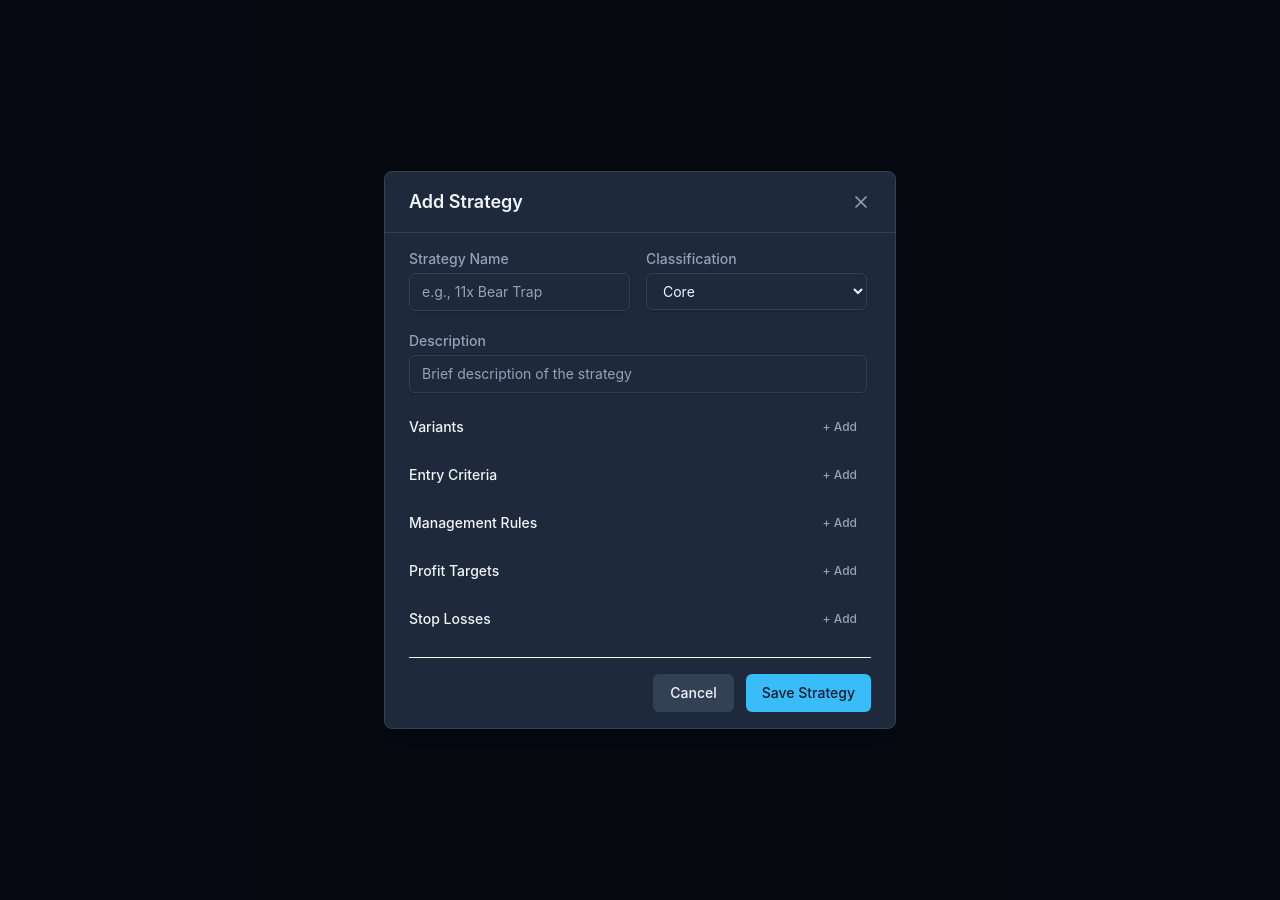
StrategyEditor › shows validation errors when saving without entry criteria and management rules
The width and height of the screenshot is (1280, 900).
Fill in name so we only test the sub-list validation
In the field with placeholder "e.g., 11x Bear Trap": (520, 292) [409, 273, 630, 311], type "My Strategy"
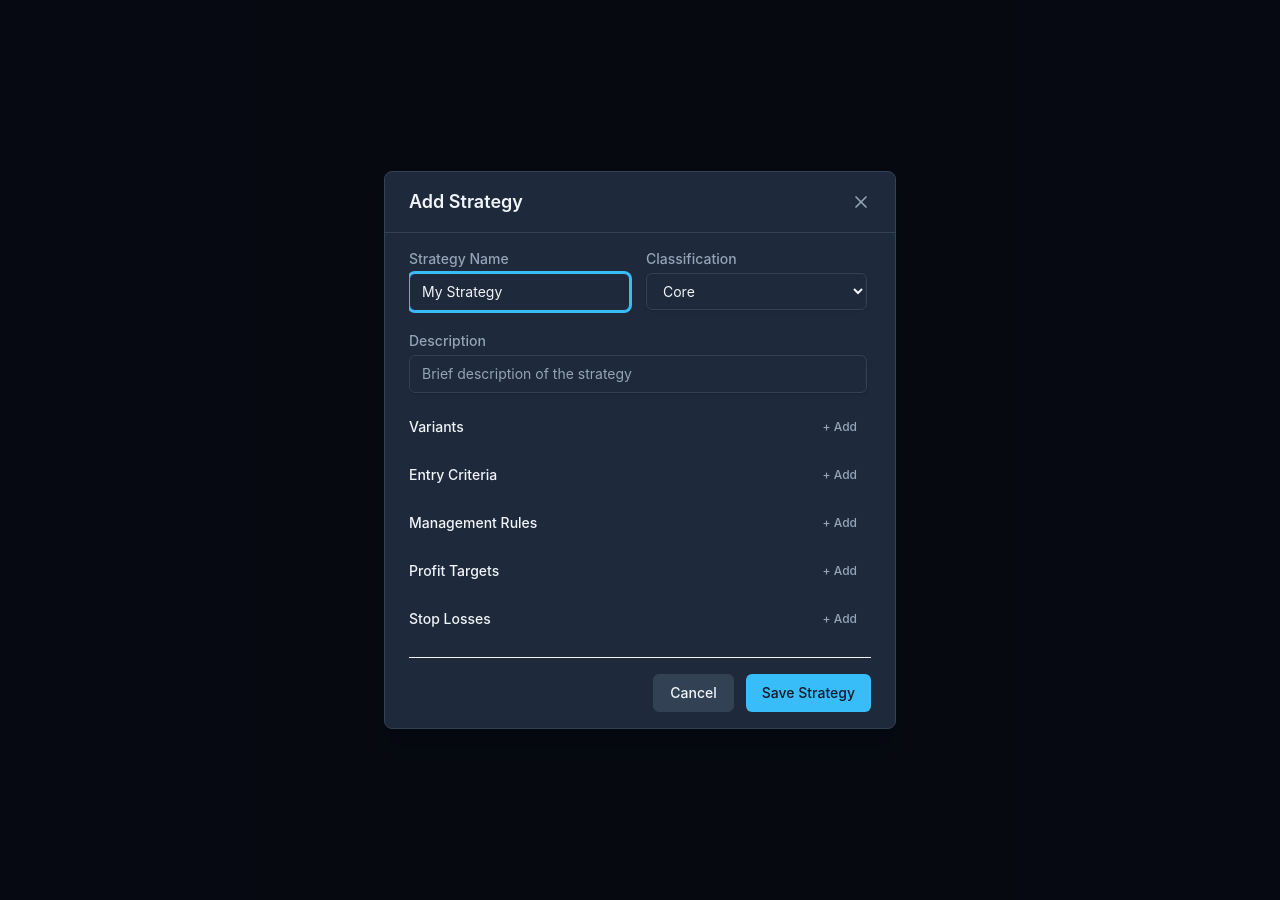
Click the button "Save Strategy": (808, 693) [746, 674, 871, 712]
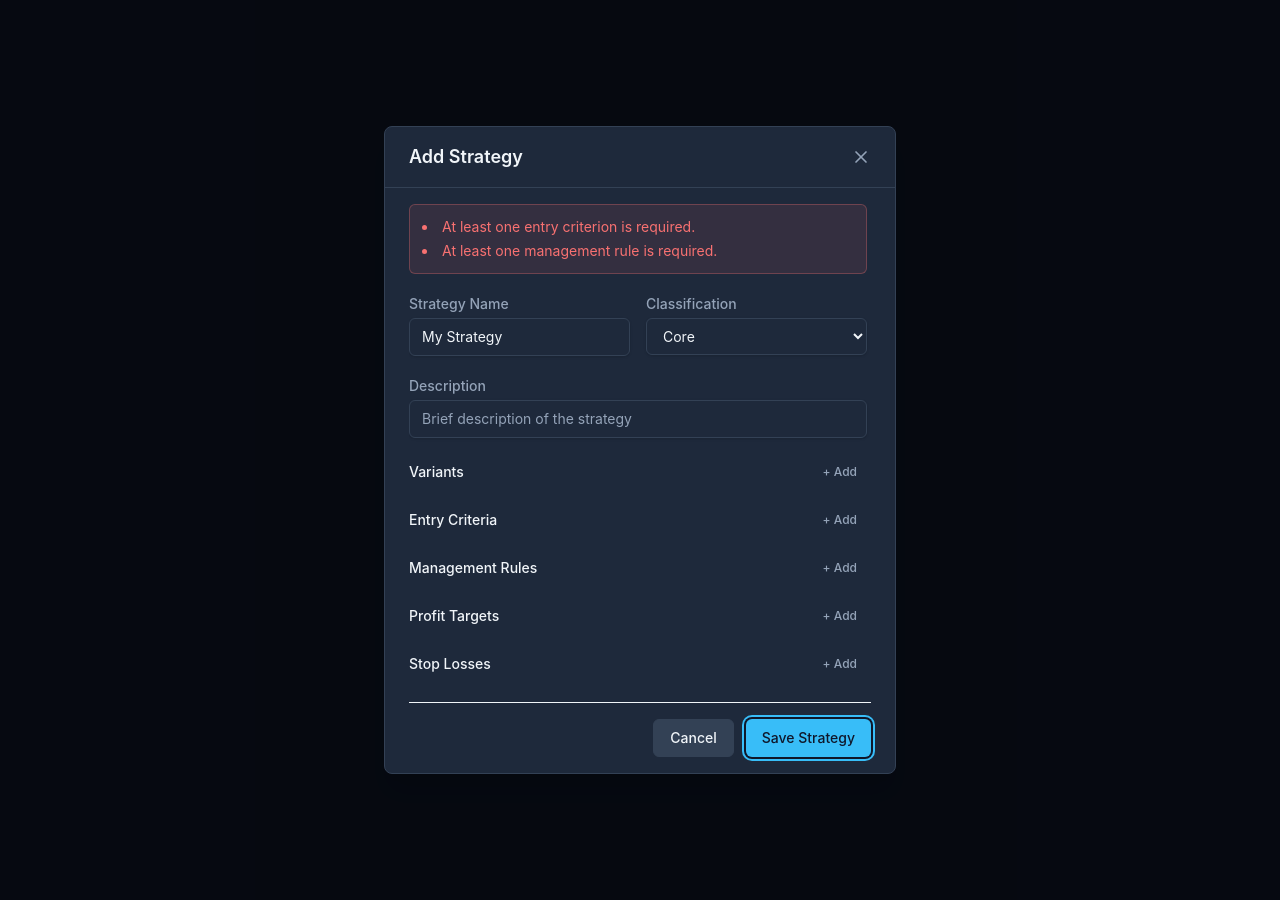
Result: the list item "At least one entry criterion is required." is shown at [442, 218, 695, 235]
Result: the list item "At least one management rule is required." is shown at [442, 242, 717, 259]
